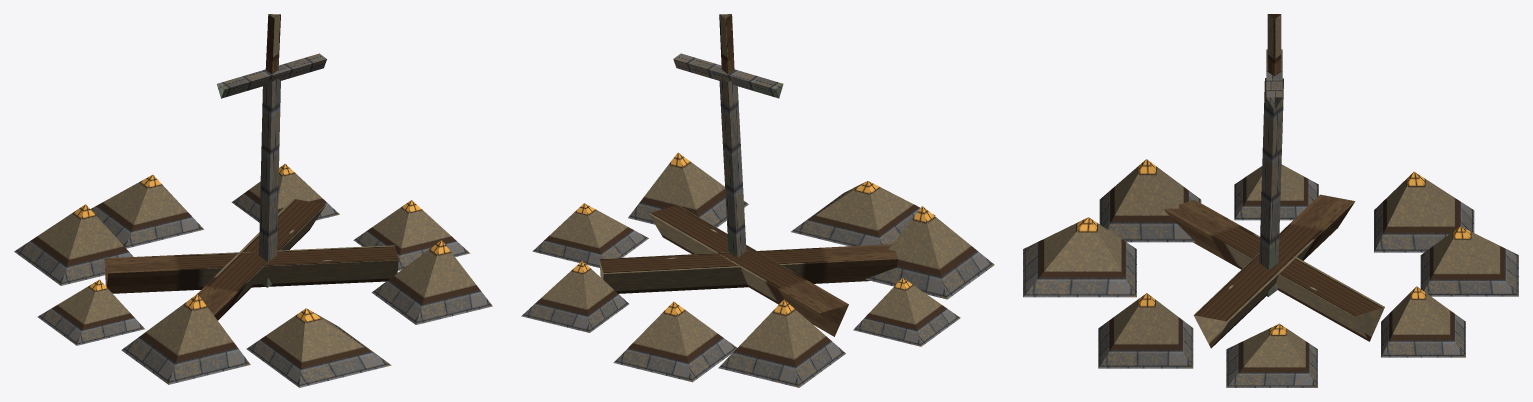
Rendered from bonfire.obj.
3 renders of one model, left to right at view 1: azimuth 30°, elevation 25°; view 2: azimuth 150°, elevation 25°; view 3: azimuth 270°, elevation 25°, orthographic. The views are drawn at different scales.
Parts seen in each view (by area): view 1: bonfire; view 2: bonfire; view 3: bonfire.
Boxes of the visible parts, box(x1,y1,x2,y2) form: bonfire: box(14, 14, 492, 387); bonfire: box(521, 14, 994, 387); bonfire: box(1023, 14, 1518, 387).
Size of the model in its own units: 1.52 by 0.9906 by 1.56.
Materials: 1 (1 with a texture image).
